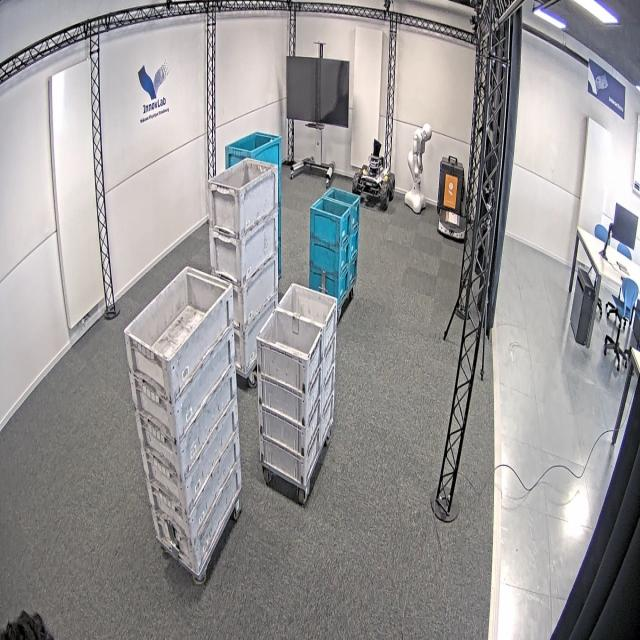Box3G: (124, 266, 233, 401), (130, 329, 234, 443), (149, 456, 241, 571), (134, 389, 235, 477), (140, 428, 236, 513), (148, 454, 241, 538)
Box4G: (208, 156, 279, 238), (209, 209, 278, 287), (228, 251, 278, 331), (233, 289, 278, 375)
Box8G: (255, 305, 322, 394), (278, 284, 338, 358), (256, 370, 320, 426), (258, 401, 320, 457)
BoxB4: (224, 132, 281, 171)
BoxB8: (309, 195, 351, 246), (318, 187, 361, 232), (309, 264, 349, 303), (308, 237, 348, 274), (346, 252, 358, 293), (348, 226, 360, 263)
